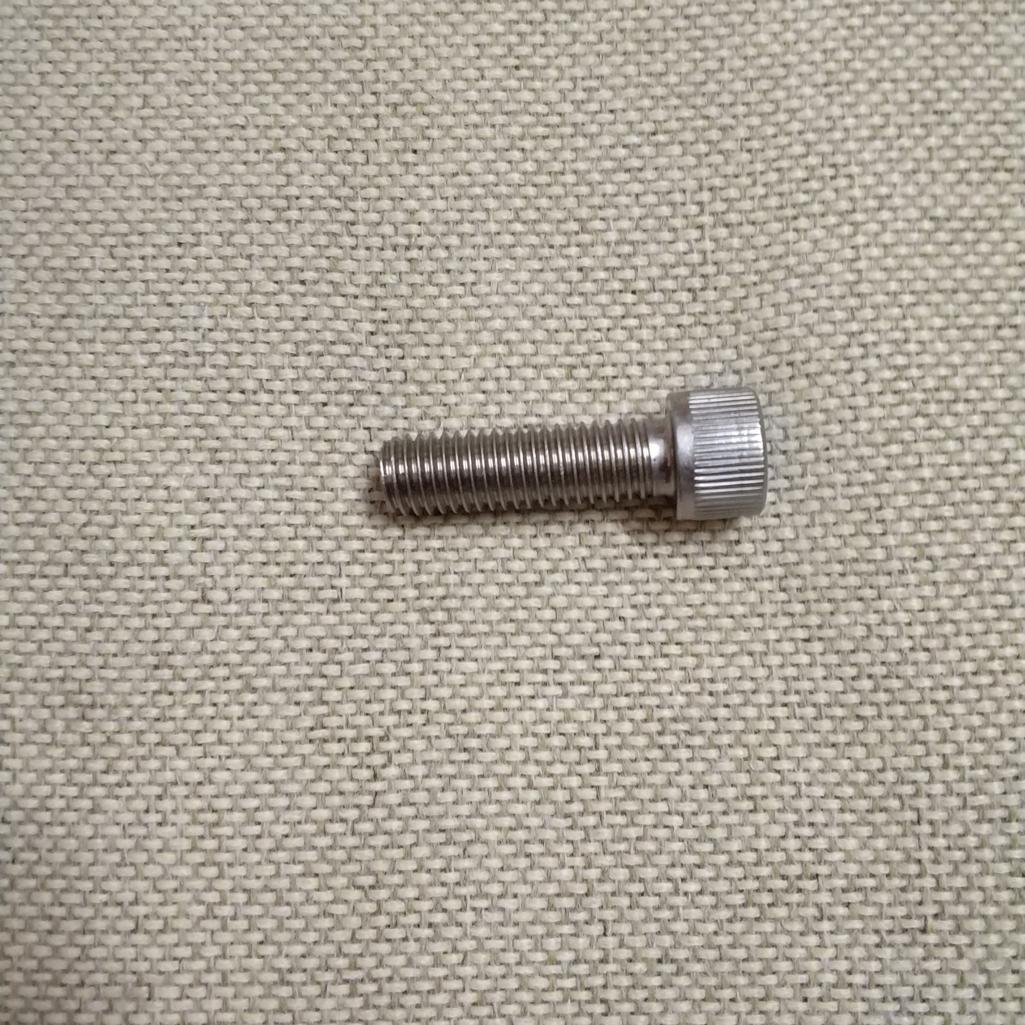screwtype1silver: (360, 382, 769, 524)
